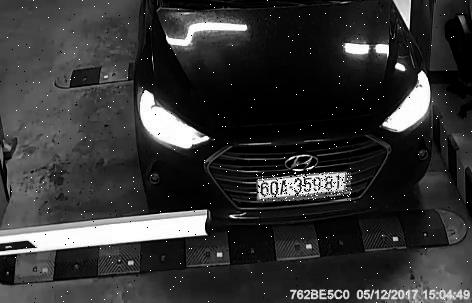License-plate: (258, 173, 354, 202)
